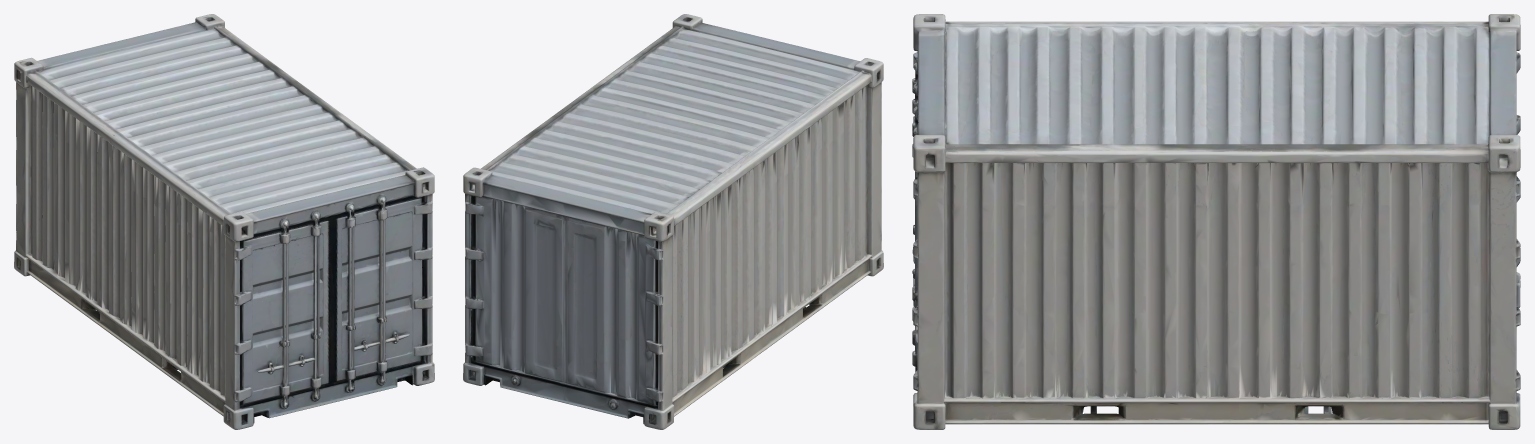
File: shipping_container_d50ffbf4_v4.glb
3 views of the same model, side by side, from view 1: azimuth 30°, elevation 25°; view 2: azimuth 150°, elevation 25°; view 3: azimuth 270°, elevation 25° (orthographic). The views are drawn at different scales.
Visible parts, largest first — view 1: material; view 2: material; view 3: material.
Boxes of the visible parts, <box> form: material: <box>14,14,434,429</box>; material: <box>463,14,883,429</box>; material: <box>912,14,1520,429</box>.
Size of the model in its own units: 0.5112 by 0.5026 by 0.9761.
1 material, 1 textured.
